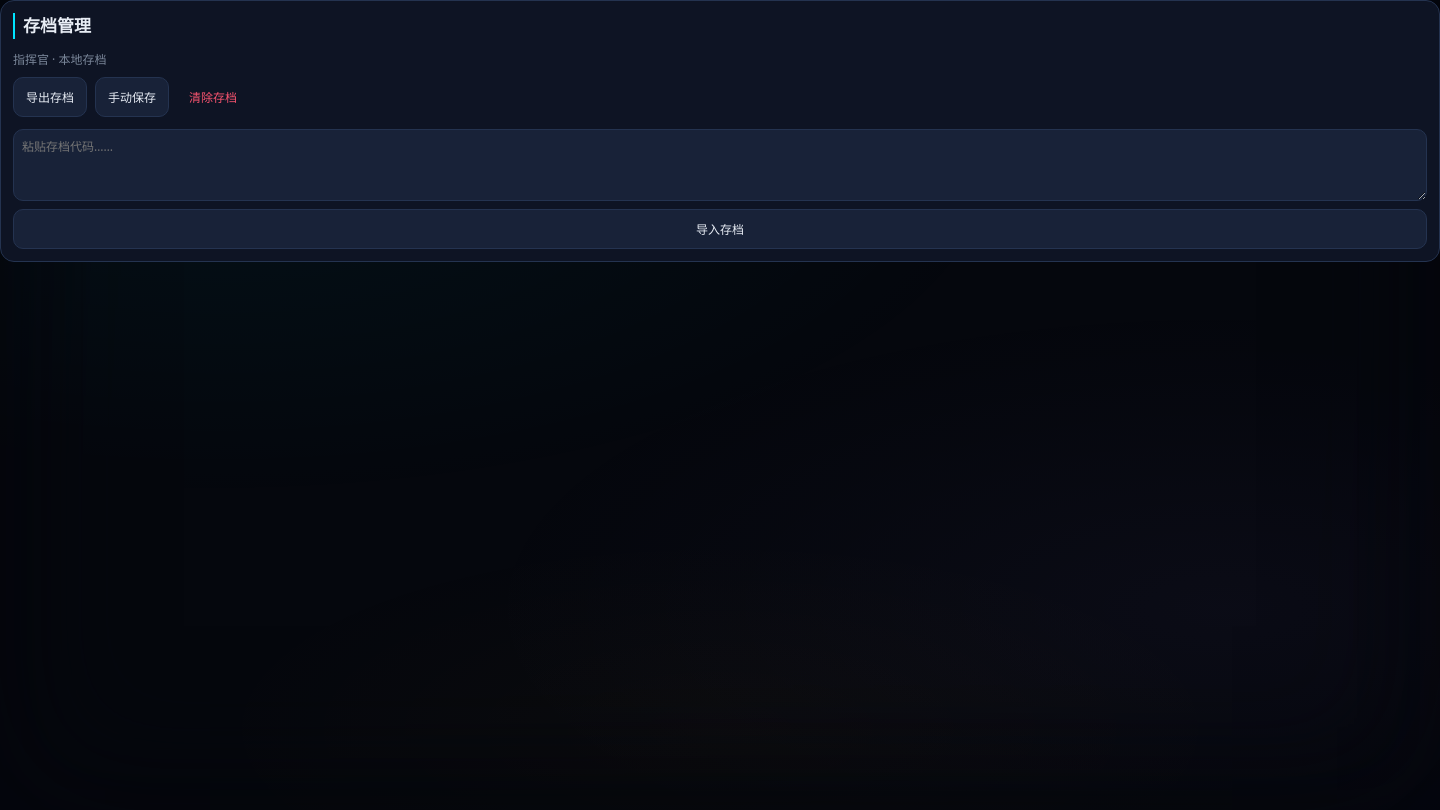
Scenario: SavePanel 存档管理 › 确认导入无效码显示无效提示并恢复按钮态
Type "not-a-valid-save!!!" into the text box with placeholder "粘贴存档代码……" at (720, 164), box [13, 128, 1427, 200]
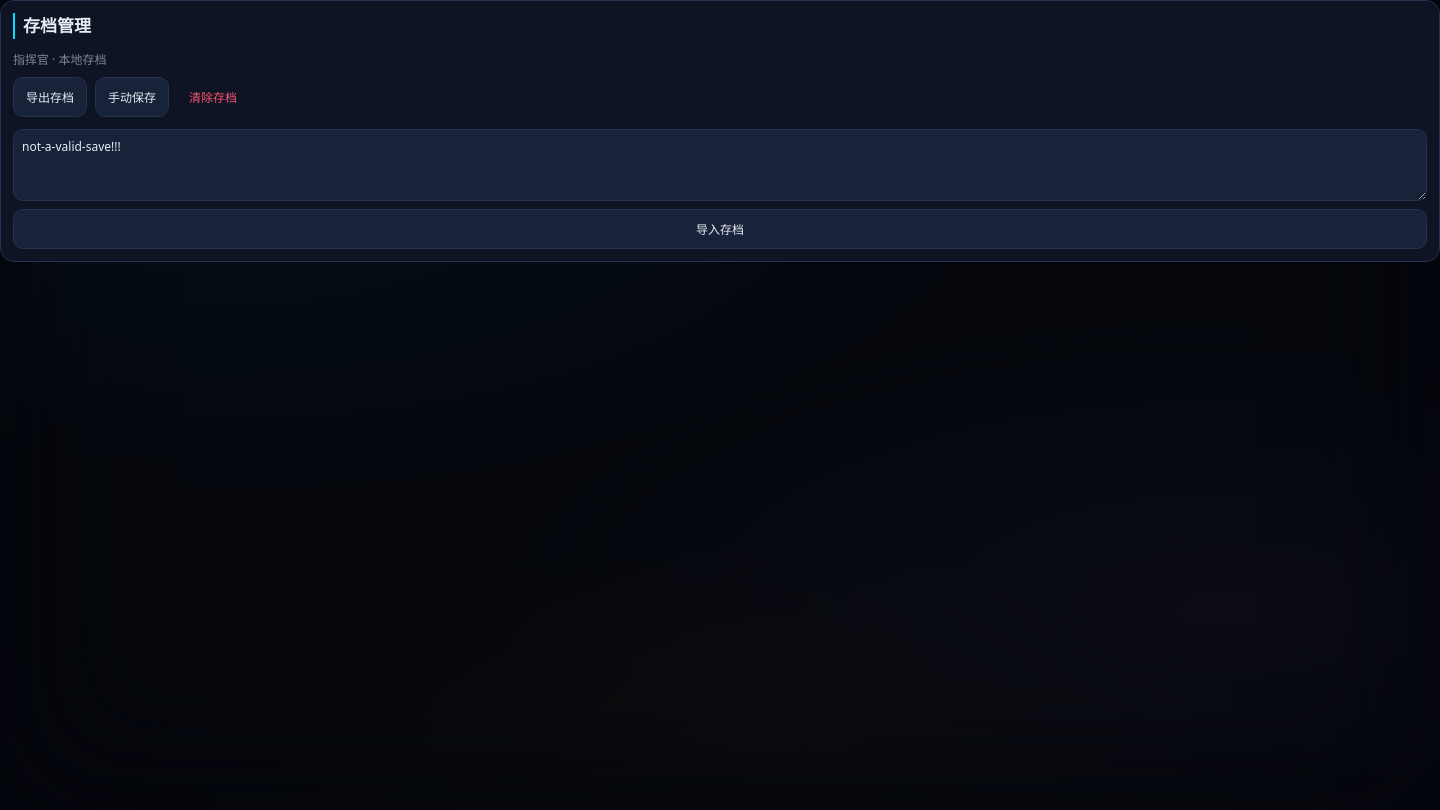
Click the button "导入存档" at (720, 228), box [13, 208, 1427, 248]
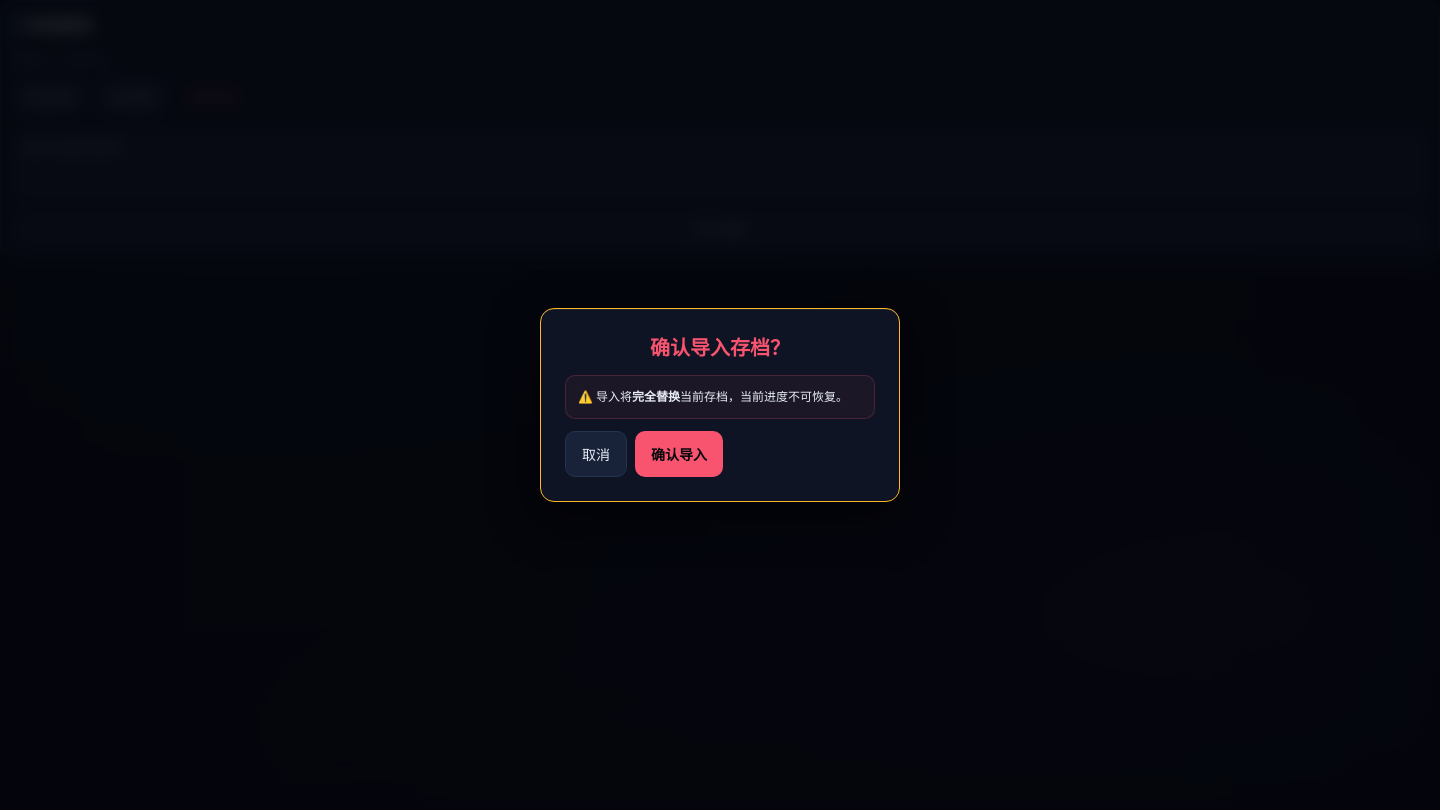
Click the button with class "btn-accent" at (679, 454), box [635, 431, 723, 477]
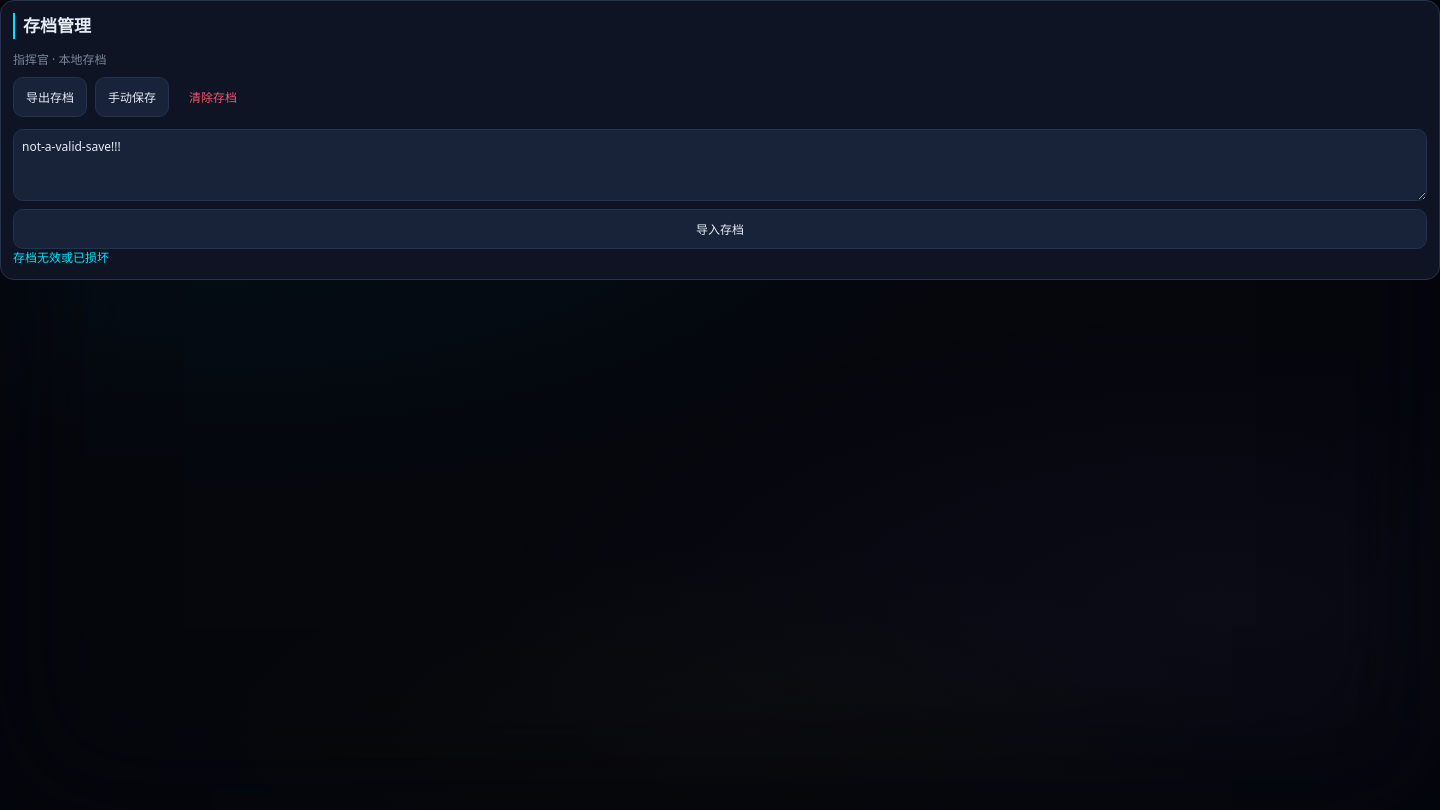
Expected: the button "导入存档" is enabled, [13, 208, 1427, 248]
Expected: the text with class "import-msg" reads "存档无效或已损坏", [13, 248, 109, 266]
